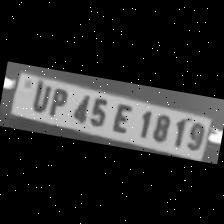1: (168, 113, 190, 148), (132, 104, 154, 138)
4: (65, 88, 92, 122)
5: (83, 91, 111, 128)
8: (146, 108, 172, 143)
9: (180, 115, 206, 150)
E: (106, 98, 135, 135)
P: (43, 82, 69, 118)
U: (24, 76, 52, 114)
